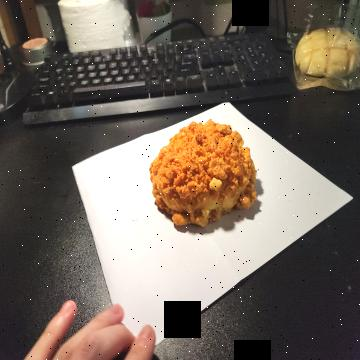soboru_bread: (151, 118, 258, 228)
